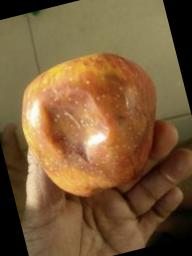Apple Rotten: (8, 39, 181, 210)
